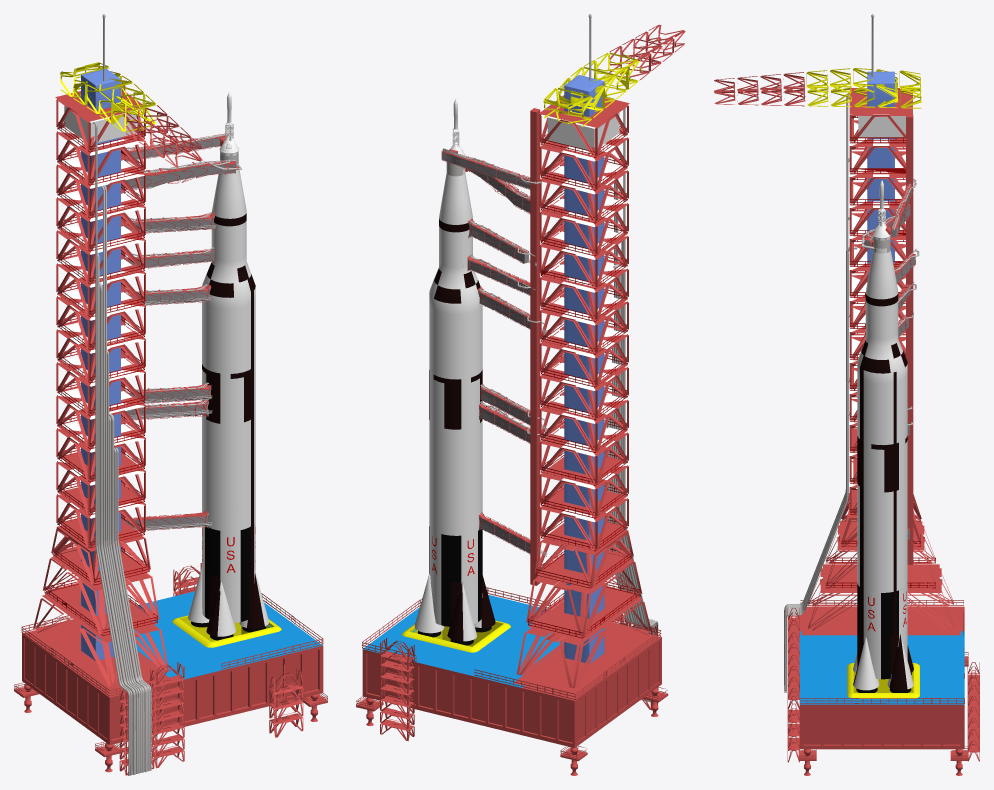
The model's file is saturnv.glb.
The picture shows the model from 3 angles, left to right: view 1: azimuth 30°, elevation 25°; view 2: azimuth 150°, elevation 25°; view 3: azimuth 270°, elevation 25°; orthographic projection. The views are drawn at different scales.
Parts seen in each view (by area): view 1: Polygonal_Geometry.003, Rocket, Polygonal_Geometry.001; view 2: Polygonal_Geometry.003, Rocket, Polygonal_Geometry.001; view 3: Polygonal_Geometry.003, Rocket, Polygonal_Geometry.001.
Part boxes in pixels (bbox=[...]): Polygonal_Geometry.003: bbox=[14, 62, 327, 775]; Rocket: bbox=[188, 92, 269, 640]; Polygonal_Geometry.001: bbox=[92, 14, 241, 775]; Polygonal_Geometry.003: bbox=[356, 24, 685, 775]; Rocket: bbox=[414, 99, 495, 645]; Polygonal_Geometry.001: bbox=[442, 14, 658, 703]; Polygonal_Geometry.003: bbox=[714, 68, 979, 775]; Rocket: bbox=[853, 180, 913, 692]; Polygonal_Geometry.001: bbox=[784, 14, 919, 692].
Size of the model in its own units: 19.16 by 59.24 by 21.
